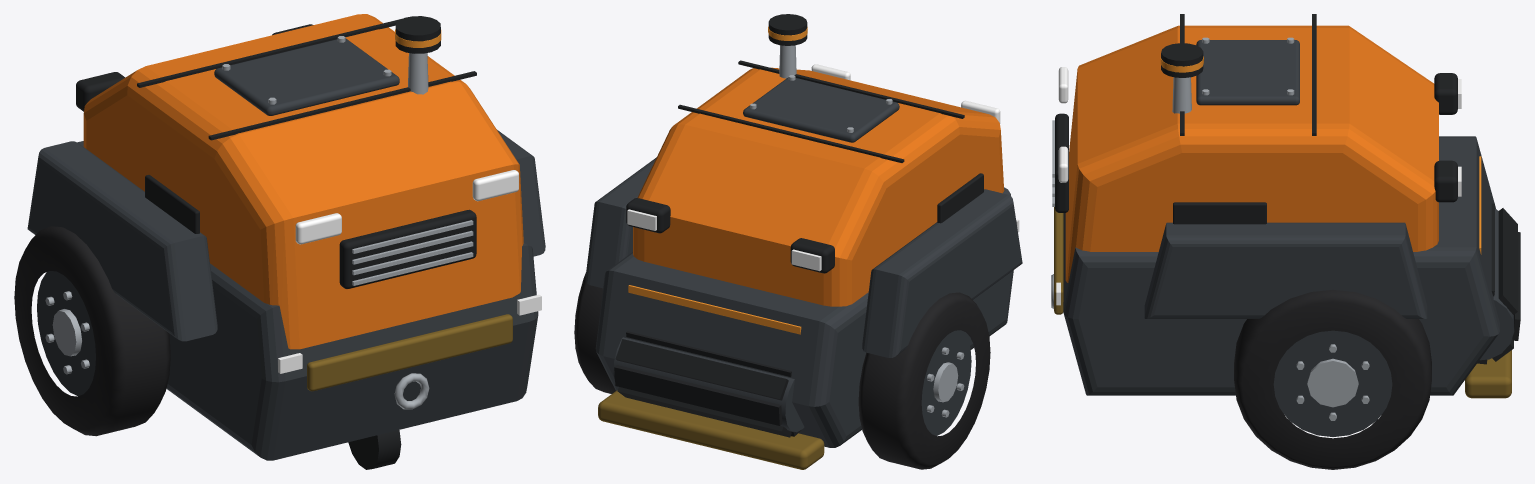
File: Machine_collector_T1.glb
3 views of the same model, side by side, from view 1: azimuth 30°, elevation 25°; view 2: azimuth 150°, elevation 25°; view 3: azimuth 270°, elevation 25° (orthographic). The views are drawn at different scales.
Parts seen in each view (by area): view 1: Body_Shell_0, Tier1_Parts_MAT_Player_Gunmetal_9, Axle_Front_MAT_tread_6, Tier1_Parts_MAT_darkTrim_10, Tier1_Parts_MAT_Player_Hazard_12, Tier1_Parts_MAT_steel_11, Axle_Front_MAT_Player_Gunmetal_7, Tier1_Parts_MAT_lamps_13, Axle_Front_MAT_steel_8, Lidar_Puck_4; view 2: Body_Shell_0, Tier1_Parts_MAT_Player_Gunmetal_9, Axle_Front_MAT_tread_6, Intake_Roller_MAT_darkTrim_2, Tier1_Parts_MAT_Player_Hazard_12, Tier1_Parts_MAT_darkTrim_10, Axle_Front_MAT_Player_Gunmetal_7, Roller_Core_1, Tier1_Parts_MAT_lamps_13, Intake_GlowStrip_3, Axle_Front_MAT_steel_8, Lidar_Puck_4 (+1 smaller); view 3: Tier1_Parts_MAT_Player_Gunmetal_9, Body_Shell_0, Axle_Front_MAT_tread_6, Axle_Front_MAT_Player_Gunmetal_7, Tier1_Parts_MAT_darkTrim_10, Intake_Roller_MAT_darkTrim_2, Tier1_Parts_MAT_Player_Hazard_12, Axle_Front_MAT_steel_8, Roller_Core_1, Tier1_Parts_MAT_steel_11, Tier1_Parts_MAT_lamps_13, Lidar_Puck_4.
Boxes of the visible parts, x1,y1,x2,y2 form: Body_Shell_0: (83, 14, 523, 349); Tier1_Parts_MAT_Player_Gunmetal_9: (27, 38, 545, 460); Axle_Front_MAT_tread_6: (14, 226, 170, 436); Tier1_Parts_MAT_darkTrim_10: (76, 18, 476, 469); Tier1_Parts_MAT_Player_Hazard_12: (307, 314, 512, 391); Tier1_Parts_MAT_steel_11: (222, 36, 473, 409); Axle_Front_MAT_Player_Gunmetal_7: (37, 271, 95, 396); Tier1_Parts_MAT_lamps_13: (278, 170, 541, 373); Axle_Front_MAT_steel_8: (45, 291, 89, 374); Lidar_Puck_4: (395, 16, 440, 53); Body_Shell_0: (633, 67, 1004, 306); Tier1_Parts_MAT_Player_Gunmetal_9: (585, 77, 1022, 447); Axle_Front_MAT_tread_6: (574, 273, 990, 469); Intake_Roller_MAT_darkTrim_2: (614, 331, 801, 437); Tier1_Parts_MAT_Player_Hazard_12: (598, 390, 824, 469); Tier1_Parts_MAT_darkTrim_10: (626, 60, 983, 273); Axle_Front_MAT_Player_Gunmetal_7: (921, 330, 971, 435); Roller_Core_1: (613, 337, 804, 432); Tier1_Parts_MAT_lamps_13: (627, 64, 1019, 271); Intake_GlowStrip_3: (628, 285, 801, 334); Axle_Front_MAT_steel_8: (926, 347, 964, 417); Lidar_Puck_4: (768, 14, 807, 45); Tier1_Parts_MAT_Player_Gunmetal_9: (1063, 40, 1499, 395); Body_Shell_0: (1065, 25, 1438, 282); Axle_Front_MAT_tread_6: (1234, 289, 1431, 469); Axle_Front_MAT_Player_Gunmetal_7: (1273, 330, 1392, 436); Tier1_Parts_MAT_darkTrim_10: (1055, 14, 1457, 224); Intake_Roller_MAT_darkTrim_2: (1477, 203, 1520, 364); Tier1_Parts_MAT_Player_Hazard_12: (1054, 207, 1511, 398); Axle_Front_MAT_steel_8: (1296, 344, 1369, 420); Roller_Core_1: (1480, 209, 1514, 360); Tier1_Parts_MAT_steel_11: (1051, 37, 1294, 308); Tier1_Parts_MAT_lamps_13: (1056, 67, 1461, 305); Lidar_Puck_4: (1161, 43, 1203, 77).
Size of the model in its own units: 0.89 by 0.86 by 0.9959.
